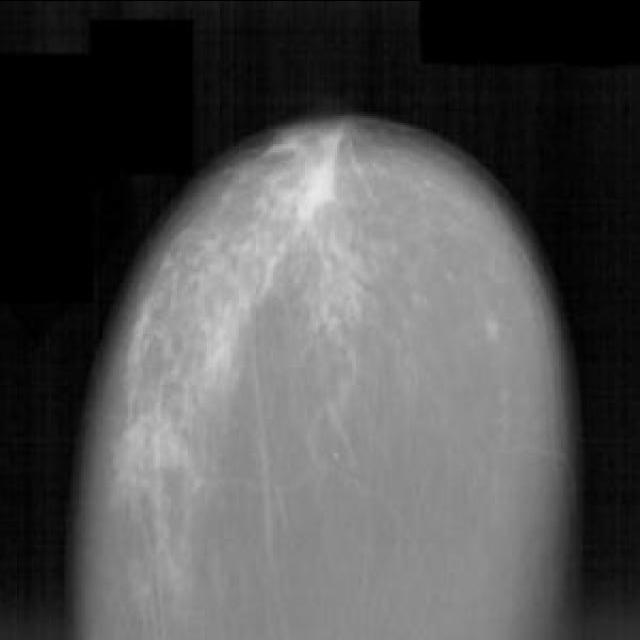tumor: (243, 118, 356, 240)
